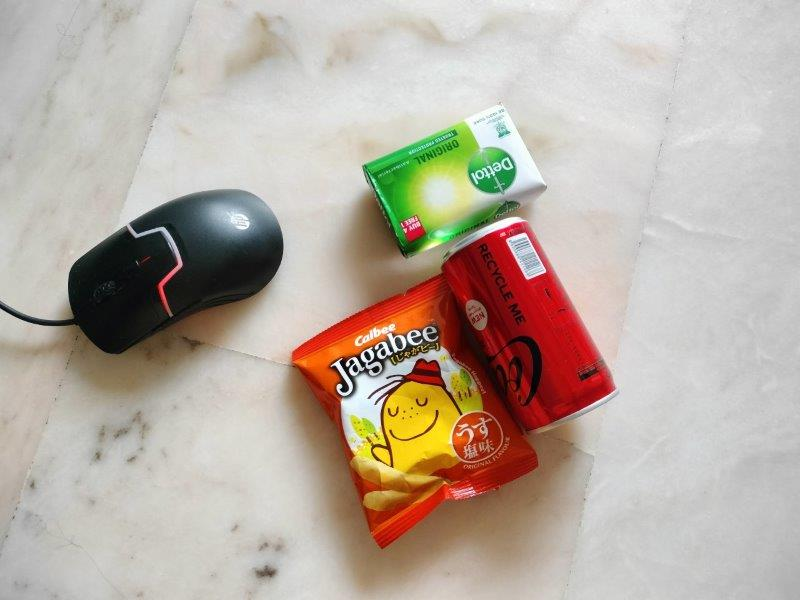Coke: (439, 217, 616, 432)
Dettol: (364, 104, 549, 257)
Jagabee: (292, 280, 536, 544)
